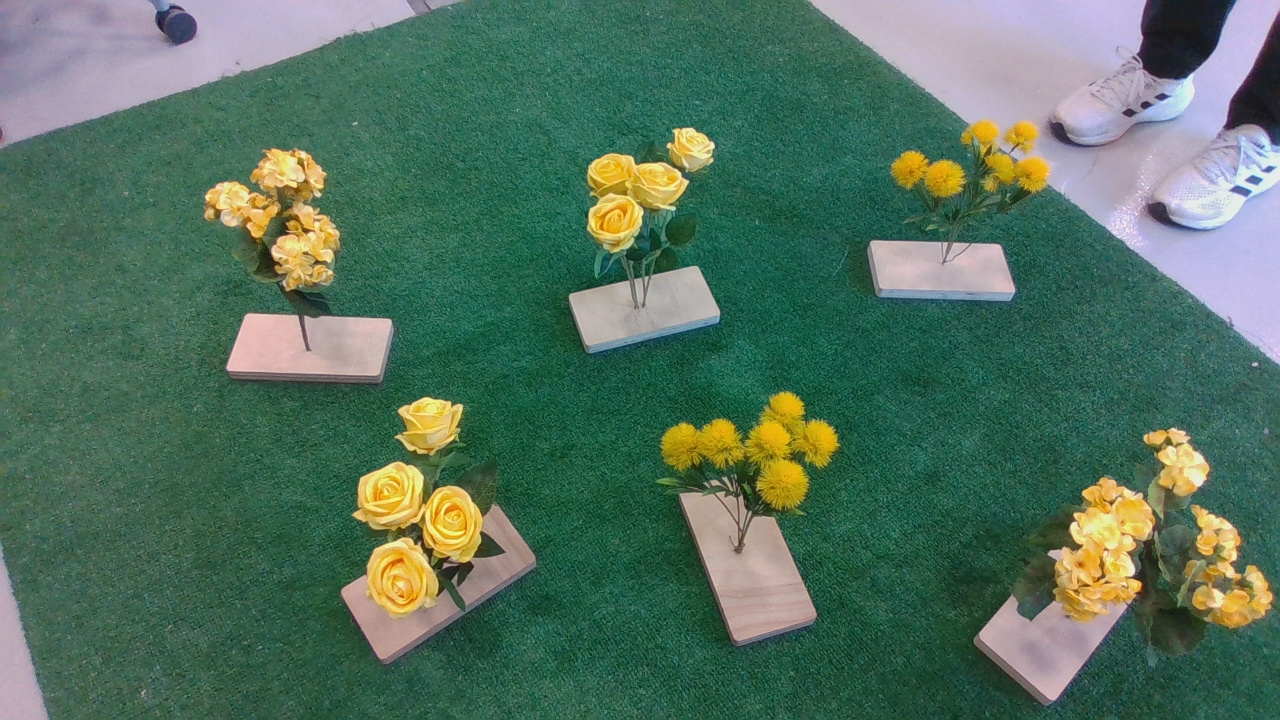dandelion: (660, 392, 850, 531), (881, 121, 1058, 242)
geranium: (1017, 430, 1279, 657), (191, 147, 363, 329)
rose: (347, 400, 520, 629), (579, 126, 729, 290)
